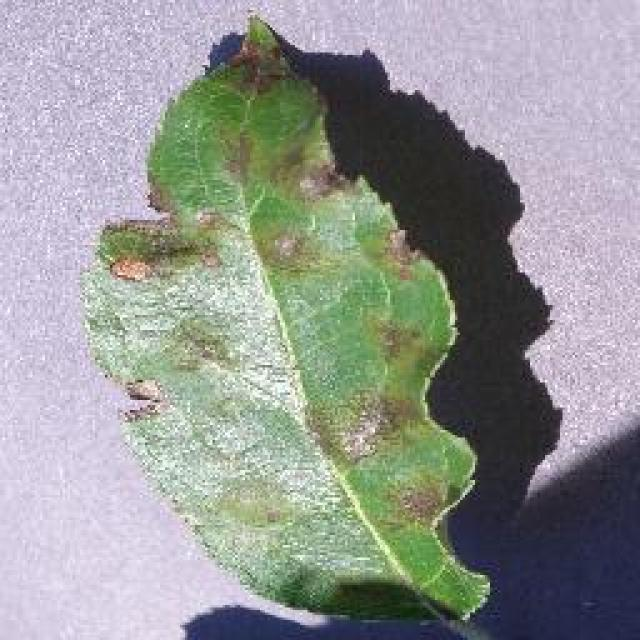apple scab disease: (77, 10, 495, 625)
